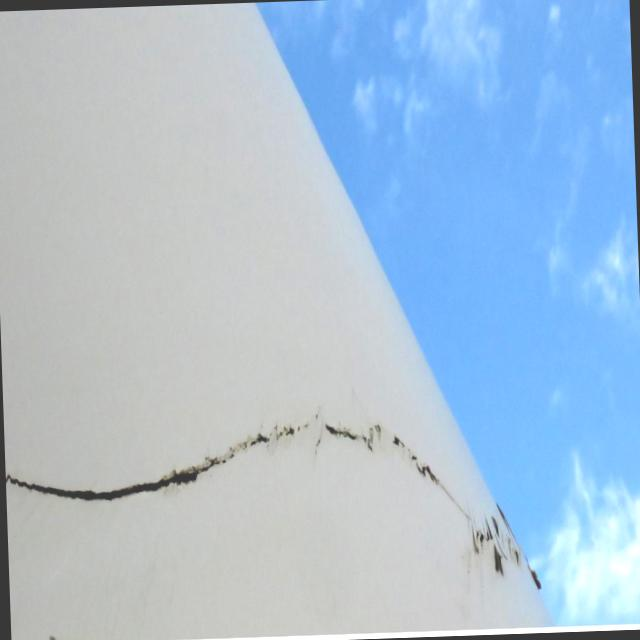crack: (13, 402, 538, 593)
